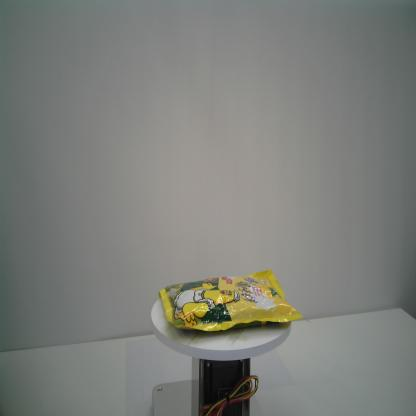Seasoner: (157, 267, 312, 334)
